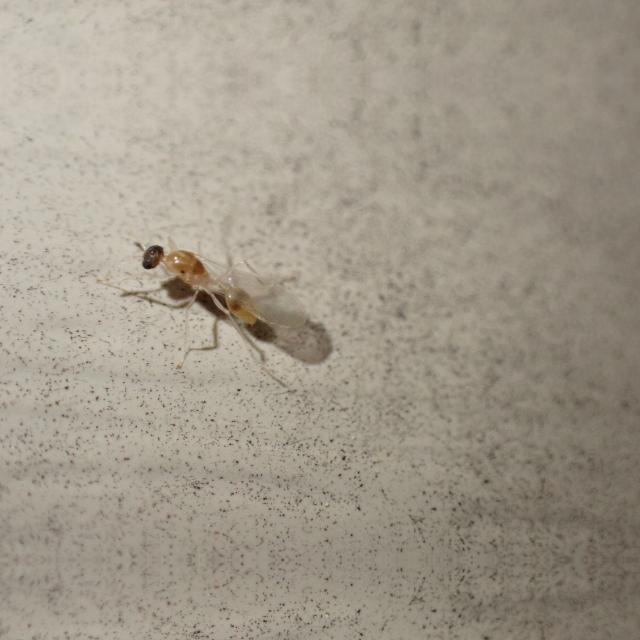Temnothorax: (121, 220, 357, 378)
